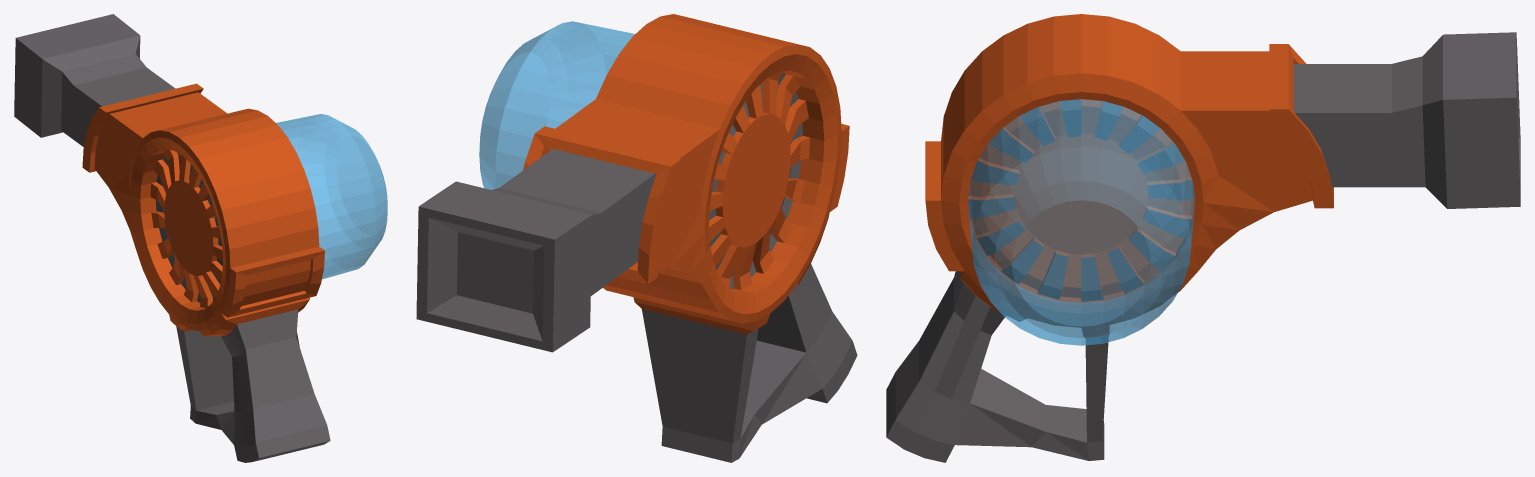
File: Shooterv2 1.dae
3 renders of one model, left to right at view 1: azimuth 30°, elevation 25°; view 2: azimuth 150°, elevation 25°; view 3: azimuth 270°, elevation 25°, orthographic. The views are drawn at different scales.
Visible parts, largest first — view 1: Cylinder, Cylinder.003, Cylinder.002, Cylinder.001, Cylinder.004; view 2: Cylinder, Cylinder.002, Cylinder.003, Cylinder.004, Cylinder.001; view 3: Cylinder, Cylinder.001, Cylinder.005, Cylinder.002, Cylinder.003.
Boxes of the visible parts, x1,y1,x2,y2 form: Cylinder: (82,83,324,336); Cylinder.003: (176,309,330,462); Cylinder.002: (14,14,175,146); Cylinder.001: (276,114,387,279); Cylinder.004: (150,149,222,307); Cylinder: (523,14,849,334); Cylinder.002: (416,149,656,352); Cylinder.003: (642,264,857,462); Cylinder.004: (709,71,809,290); Cylinder.001: (479,21,634,189); Cylinder: (925,14,1333,337); Cylinder.001: (968,99,1194,345); Cylinder.005: (968,99,1194,301); Cylinder.002: (1293,32,1520,208); Cylinder.003: (886,271,1108,462).
Bounding box in the file's own units: 2.11 × 4.52 × 3.15.
